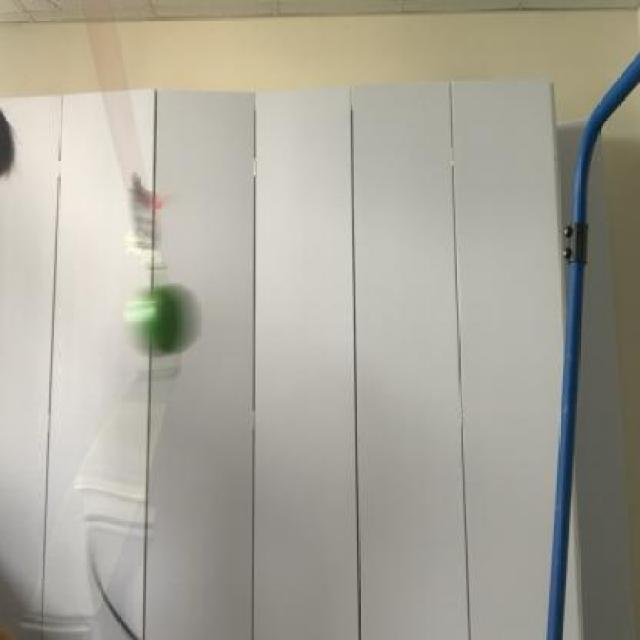baseball: (117, 274, 206, 378)
